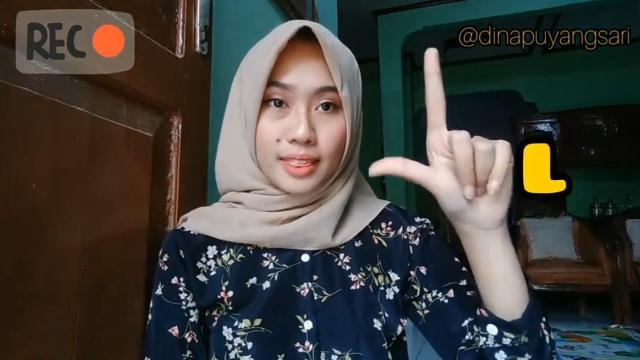L: (366, 41, 518, 227)
